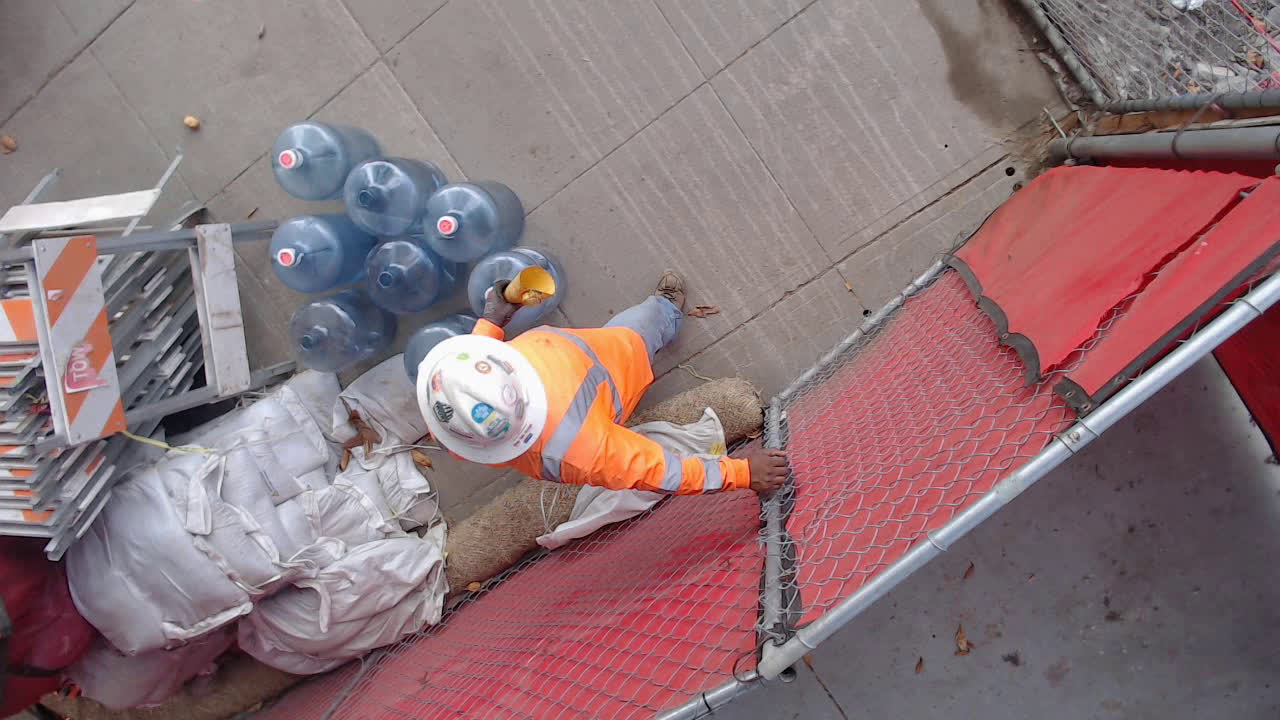hardhat: (416, 333, 549, 469)
safetyvest: (478, 329, 751, 496)
